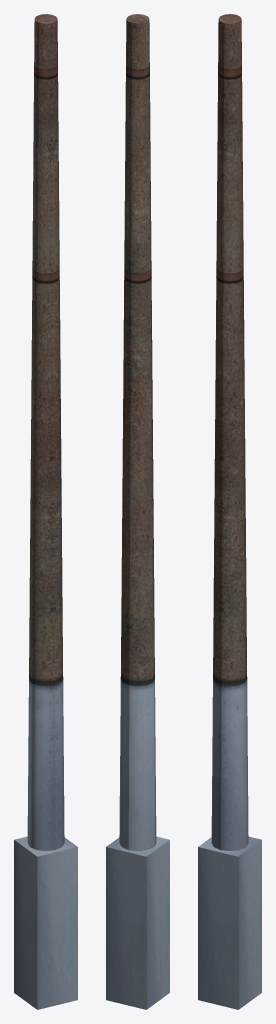
The model's file is opors_stolb_1.gltf.
3 views of the same model, side by side, from view 1: azimuth 30°, elevation 25°; view 2: azimuth 150°, elevation 25°; view 3: azimuth 330°, elevation 25° (orthographic).
Bounding box in the file's own units: 0.67 × 15.49 × 0.67.
Materials: 1 (1 with a texture image).
